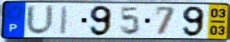5: (118, 6, 142, 36)
7: (153, 6, 179, 37)
9: (88, 5, 115, 38), (181, 6, 208, 38)
I: (59, 5, 71, 36)
U: (25, 4, 56, 37)
